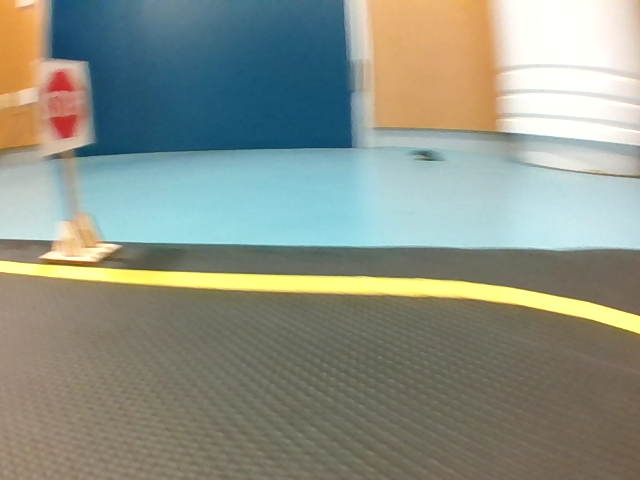stop: (36, 58, 92, 146)
